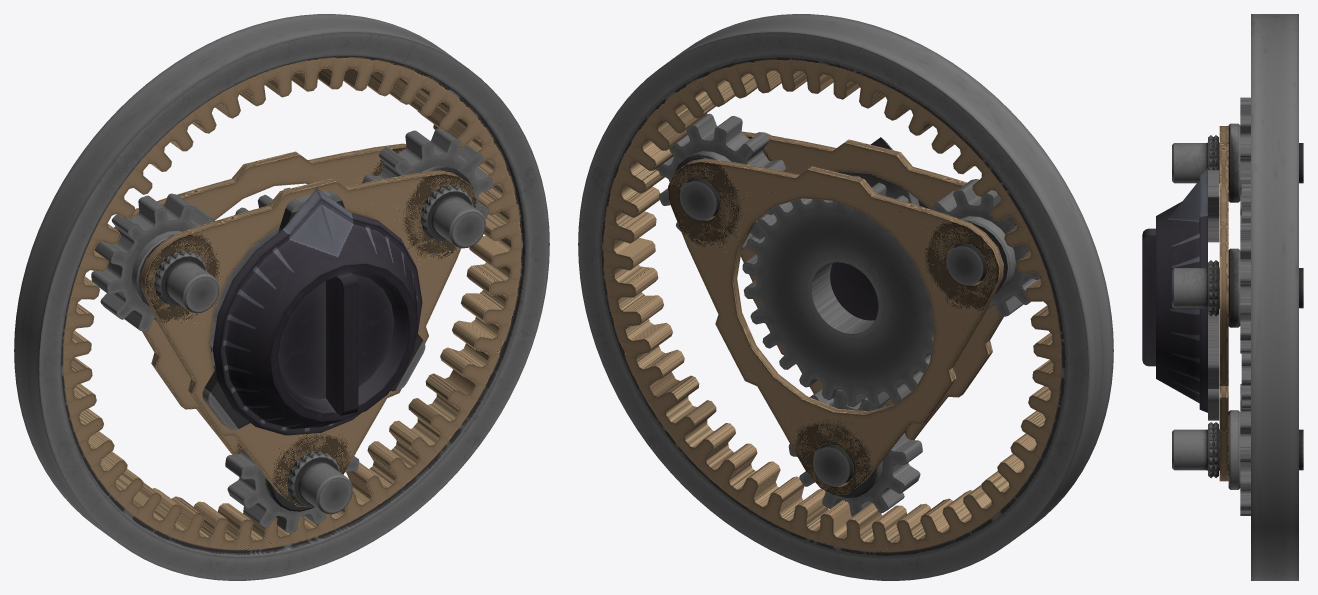
File: scp914gears.gltf
The picture shows the model from 3 angles, left to right: view 1: azimuth 30°, elevation 25°; view 2: azimuth 150°, elevation 25°; view 3: azimuth 270°, elevation 25°; orthographic projection. The views are drawn at different scales.
Visible parts, largest first — view 1: gearset_ring1, gearset_carrier, scp914_dial_new, gearset_planet1, gearset_planet2, gearset_planet3, gearset_sun1; view 2: gearset_ring1, gearset_carrier, gearset_sun1, gearset_planet2, gearset_planet3, gearset_planet1, scp914_dial_new; view 3: gearset_ring1, gearset_carrier, scp914_dial_new, gearset_planet2, gearset_planet3, gearset_planet1, gearset_sun1.
Boxes of the visible parts, bbox=[...] form: gearset_ring1: bbox=[14, 14, 549, 580]; gearset_carrier: bbox=[114, 143, 485, 514]; scp914_dial_new: bbox=[212, 188, 422, 435]; gearset_planet1: bbox=[91, 193, 214, 331]; gearset_planet2: bbox=[362, 128, 492, 219]; gearset_planet3: bbox=[225, 449, 359, 532]; gearset_sun1: bbox=[210, 187, 290, 370]; gearset_ring1: bbox=[578, 14, 1113, 580]; gearset_carrier: bbox=[668, 131, 1015, 497]; gearset_sun1: bbox=[742, 175, 934, 408]; gearset_planet2: bbox=[655, 113, 785, 249]; gearset_planet3: bbox=[788, 388, 922, 516]; gearset_planet1: bbox=[931, 179, 1039, 316]; scp914_dial_new: bbox=[830, 137, 929, 320]; gearset_ring1: bbox=[1251, 14, 1298, 580]; gearset_carrier: bbox=[1172, 123, 1303, 489]; scp914_dial_new: bbox=[1142, 168, 1207, 412]; gearset_planet2: bbox=[1240, 223, 1250, 353]; gearset_planet3: bbox=[1240, 384, 1250, 515]; gearset_planet1: bbox=[1240, 97, 1250, 222]; gearset_sun1: bbox=[1241, 183, 1250, 411].
Size of the model in its own units: 0.0274 by 0.0274 by 0.00779.
Materials: 2 (2 with a texture image).
